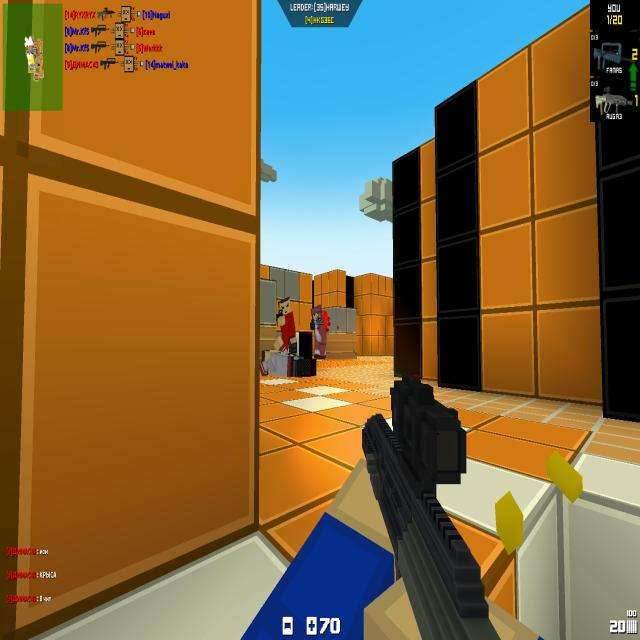enemy: (276, 297, 296, 351), (310, 304, 327, 359)
